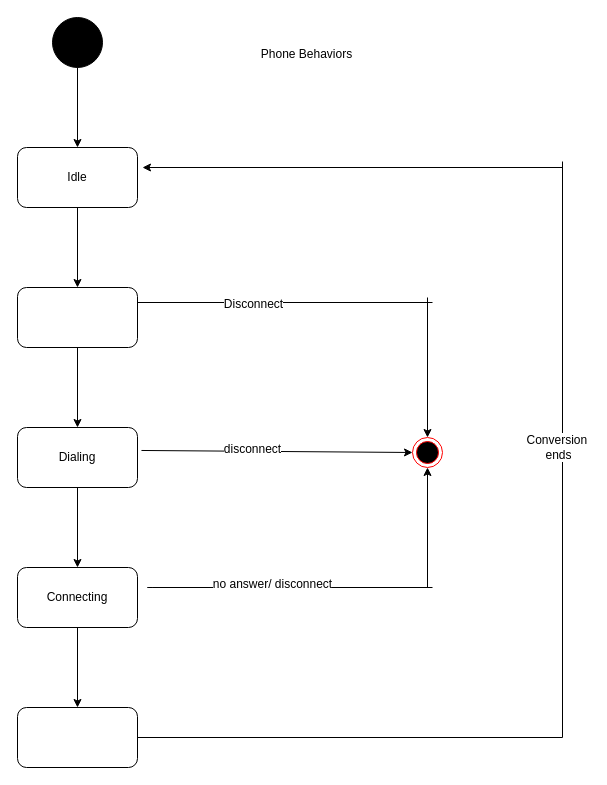
This 607x785 diagram has some shape labels left out. Each missing label, with the box of its shape:
Conversion: (16, 706, 138, 768)
Dial tone: (16, 286, 138, 348)
